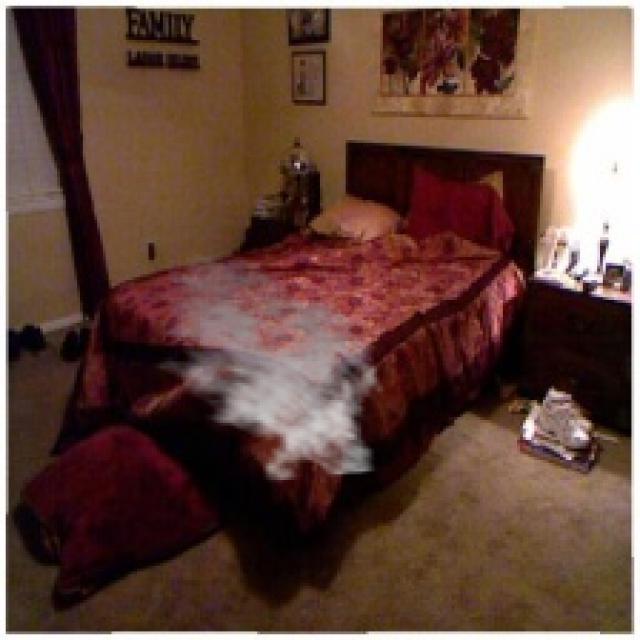smoke: (143, 251, 388, 483)
